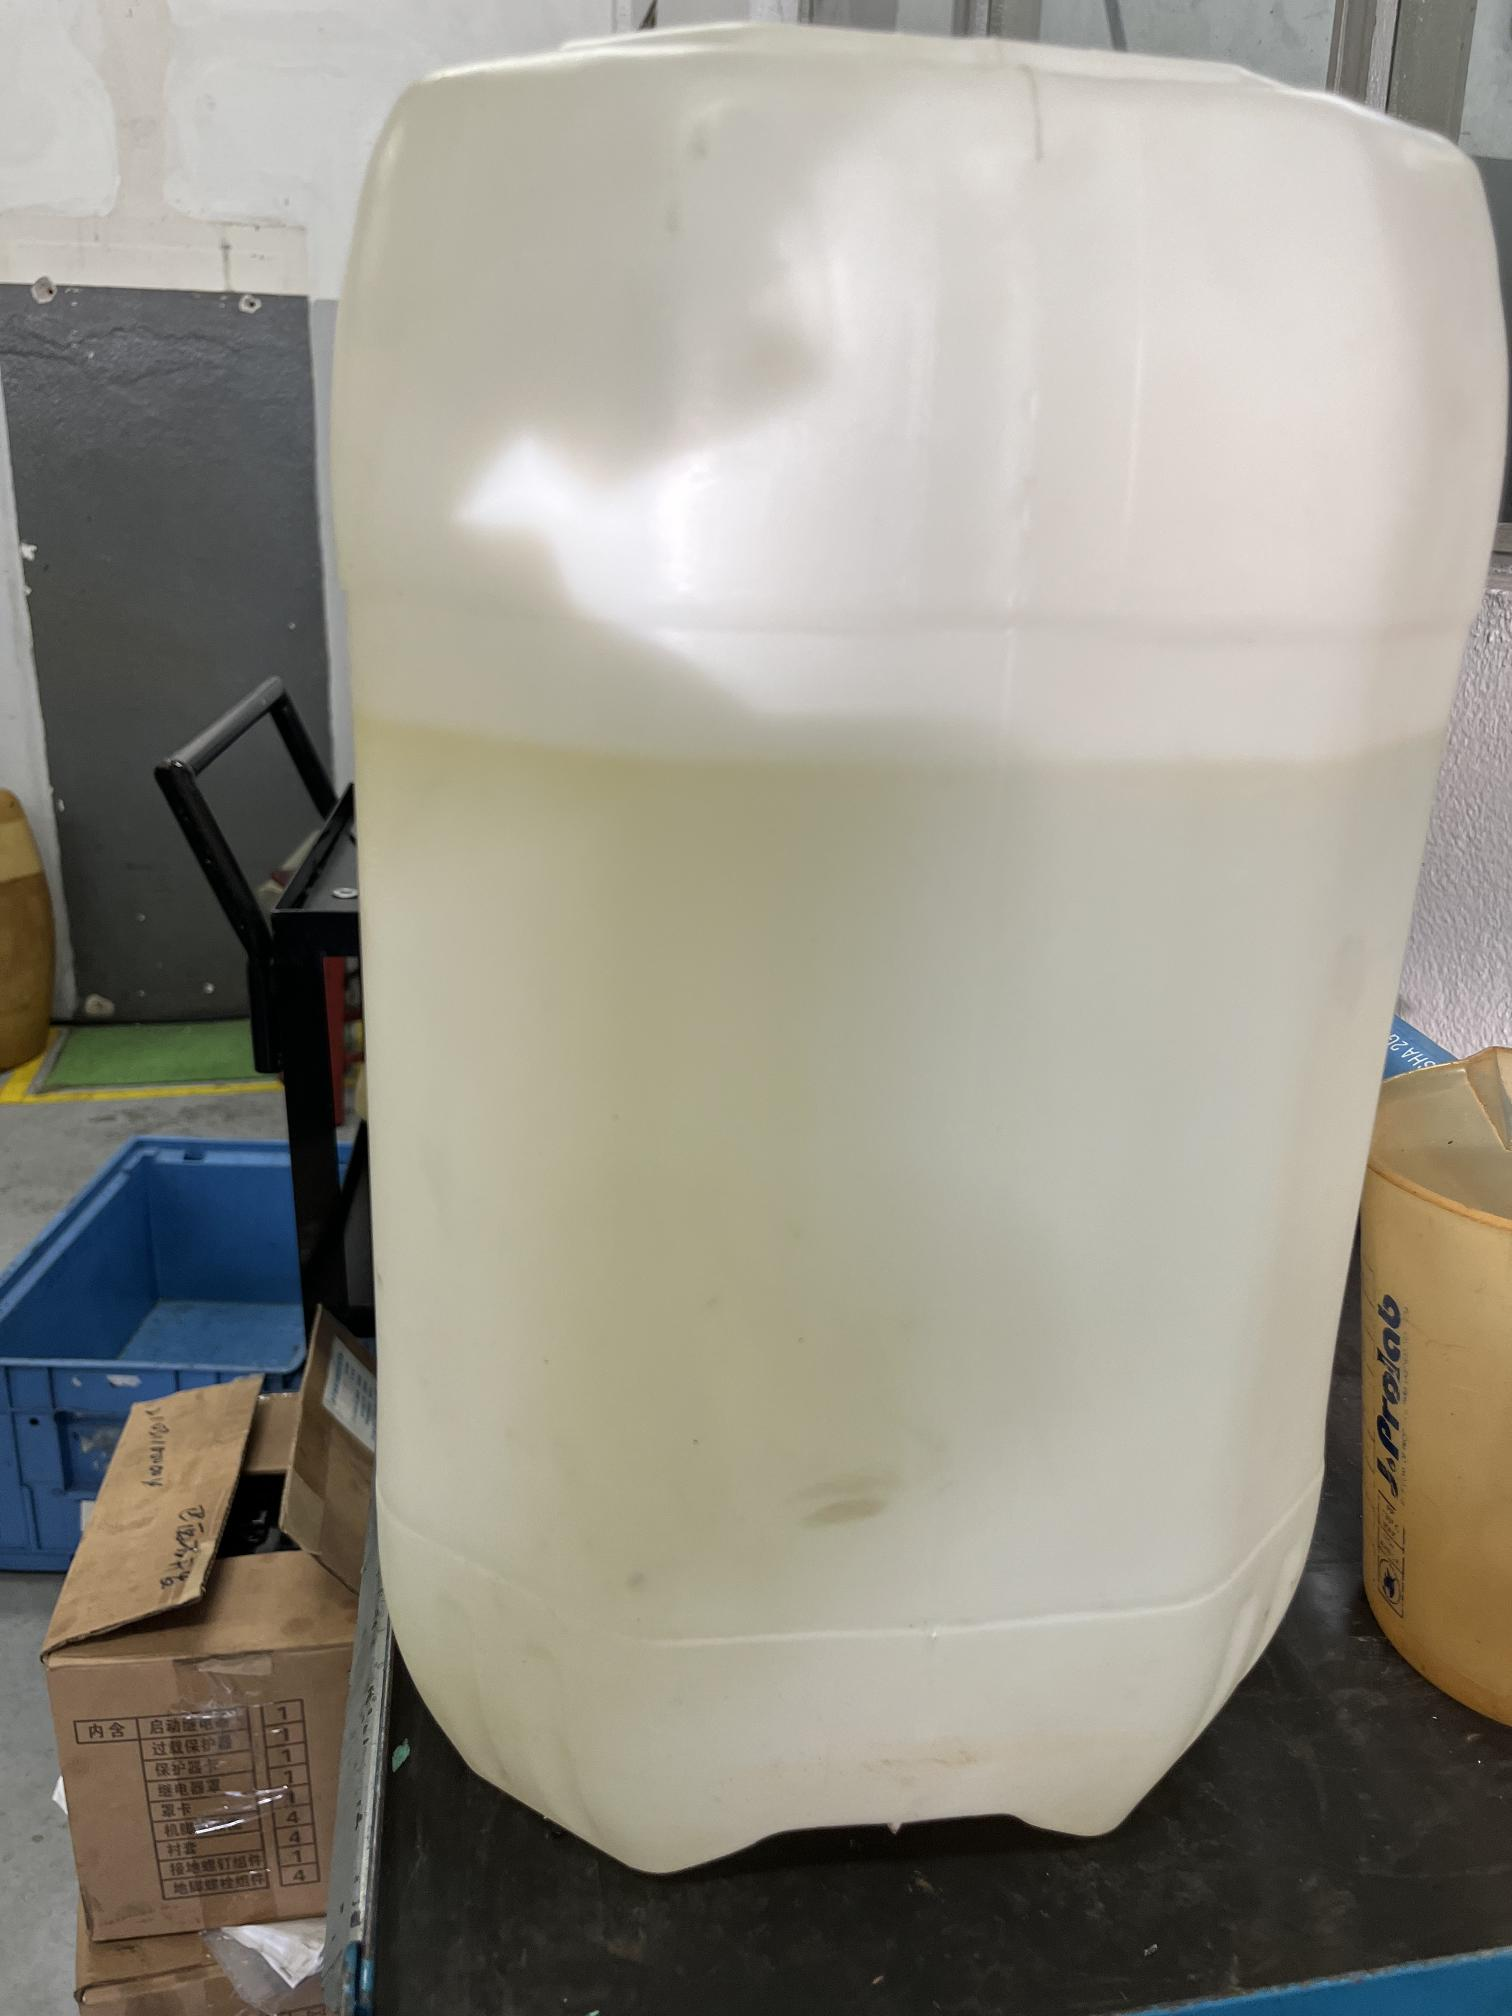Galao: (305, 56, 1460, 1849)
